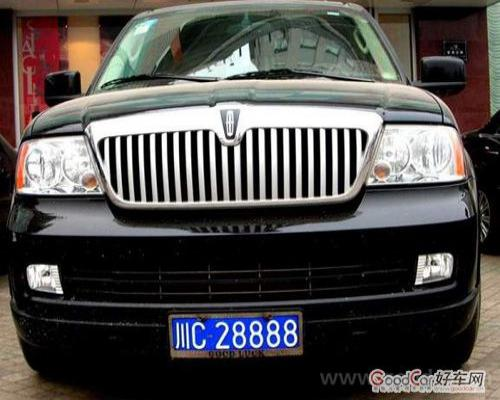Carplate: (164, 310, 307, 362)
